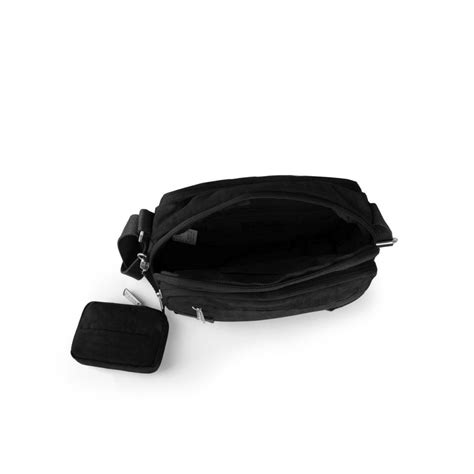nylon: (118, 175, 398, 325)
